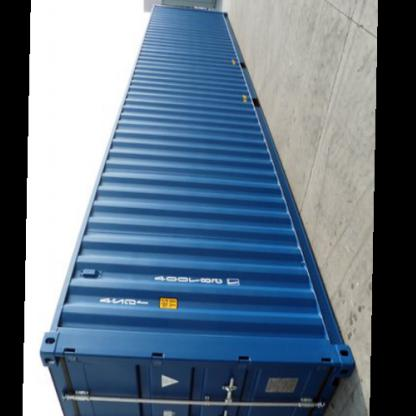Damage: (56, 356, 74, 406)
